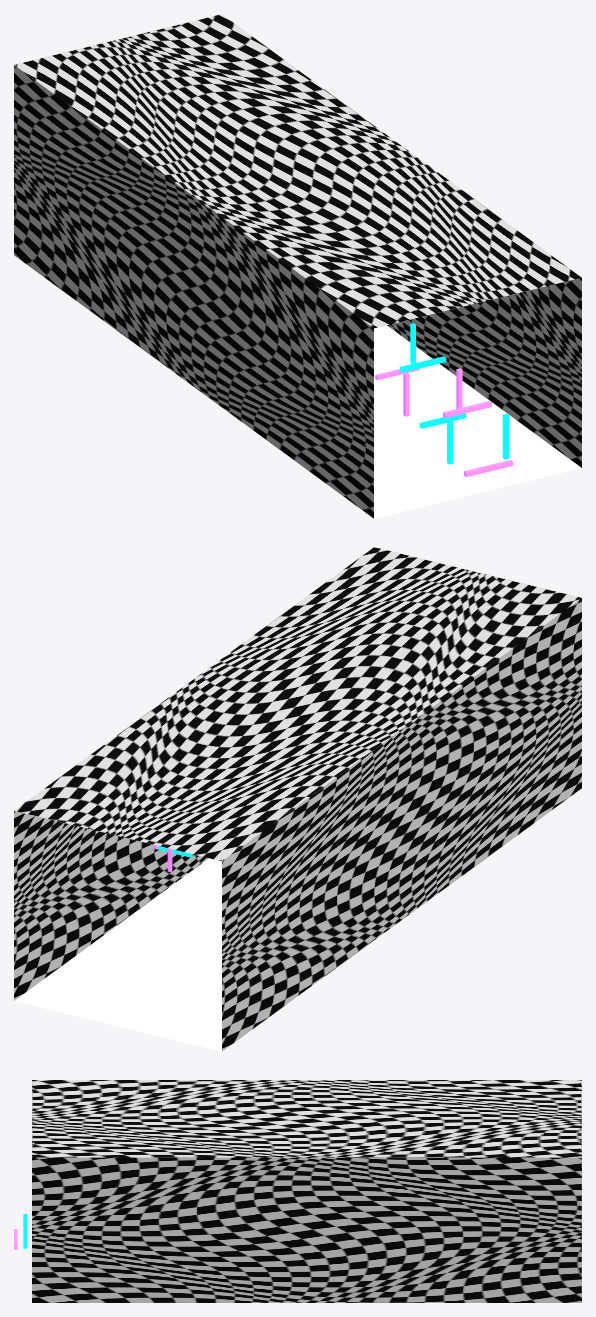
The picture shows the model from 3 angles, top to bottom: view 1: azimuth 30°, elevation 25°; view 2: azimuth 150°, elevation 25°; view 3: azimuth 270°, elevation 25°; orthographic projection. The views are drawn at different scales.
Visible parts, largest first — view 1: illusion ceiling, illusion left wall, Plane, illusion right wall; view 2: illusion ceiling, illusion left wall, Plane, illusion right wall; view 3: illusion right wall, illusion ceiling.
Boxes of the visible parts, box(x1,y1,x2,y2) form: illusion ceiling: box(14, 14, 581, 328); illusion left wall: box(14, 65, 373, 518); Plane: box(374, 325, 581, 518); illusion right wall: box(387, 278, 581, 467); illusion ceiling: box(14, 547, 581, 861); illusion left wall: box(222, 598, 581, 1051); Plane: box(14, 858, 221, 1051); illusion right wall: box(14, 811, 208, 1000); illusion right wall: box(32, 1157, 581, 1302); illusion ceiling: box(32, 1080, 581, 1157).
Size of the model in its own units: 8 by 7 by 24.78.
Materials: 4 (1 with a texture image).
